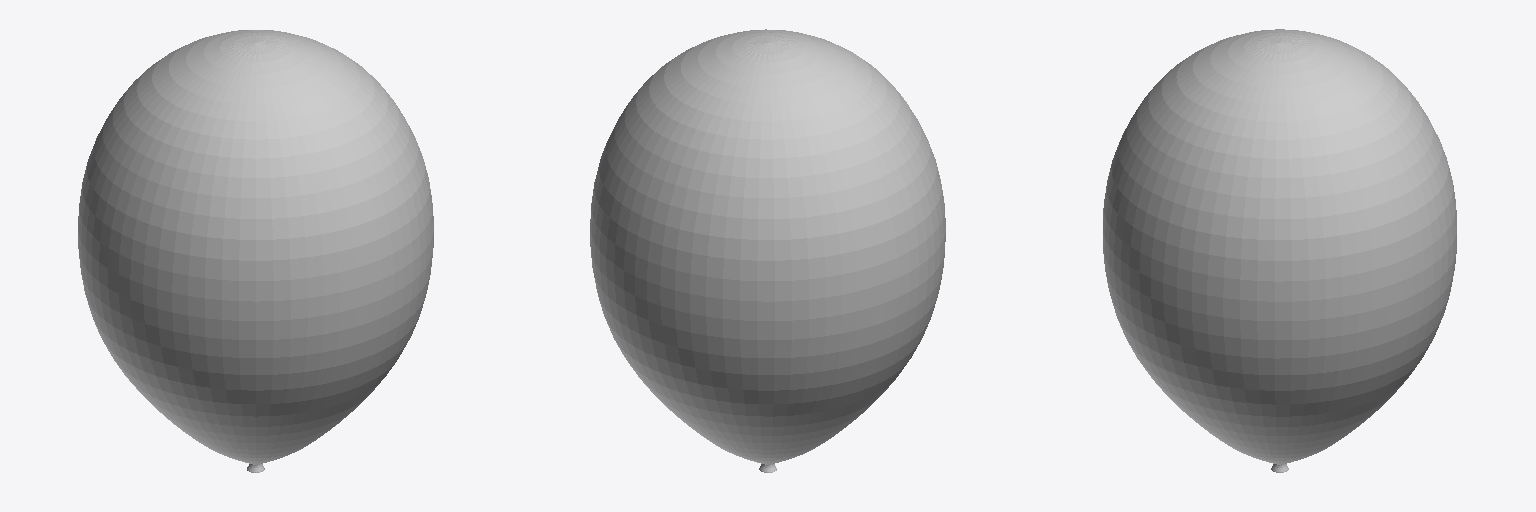
The model's file is GarfieldGlobo.obj.
The picture shows the model from 3 angles: view 1: azimuth 30°, elevation 25°; view 2: azimuth 150°, elevation 25°; view 3: azimuth 270°, elevation 25°; orthographic projection.
Visible parts, largest first — view 1: Sphere_Material.001; view 2: Sphere_Material.001; view 3: Sphere_Material.001.
Part boxes in pixels (left/top/right/bottom): Sphere_Material.001: left=78, top=30, right=433, bottom=472; Sphere_Material.001: left=590, top=29, right=945, bottom=472; Sphere_Material.001: left=1103, top=29, right=1456, bottom=472.
Bounding box in the file's own units: 0.3126 × 0.413 × 0.3114.